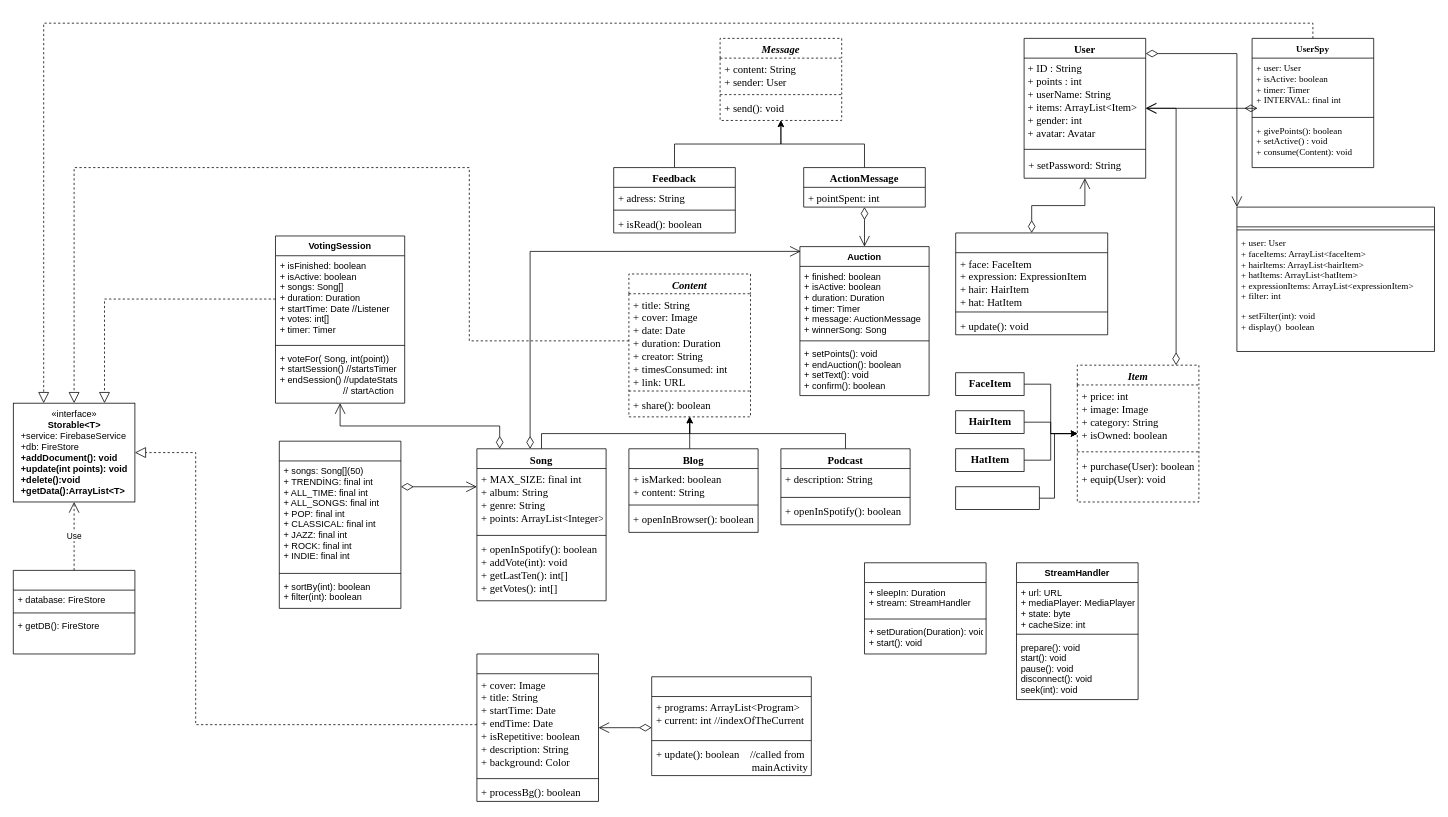
Some shapes in this 1448 by 817 pixel diagram are drawn without their labels. Here are the shapes that lost their labels. From the top down, the box of each, then its label:
(955, 232, 1108, 335): Avatar
(1236, 206, 1434, 352): Store
(955, 486, 1039, 510): ExpressionItem
(279, 440, 401, 608): StatHandler
(13, 570, 135, 654): FirebaseService
(864, 562, 986, 654): SleepTimer
(476, 653, 598, 801): Programme
(651, 676, 811, 776): ProgrammeFlow
